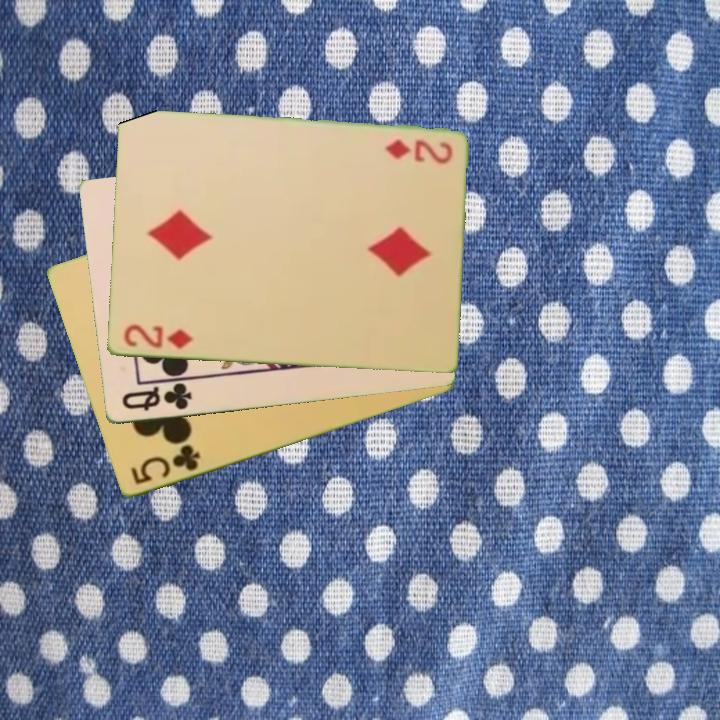2d: (120, 321, 196, 352), (381, 136, 455, 164)
5c: (127, 441, 203, 488)
Qc: (118, 379, 195, 414)
